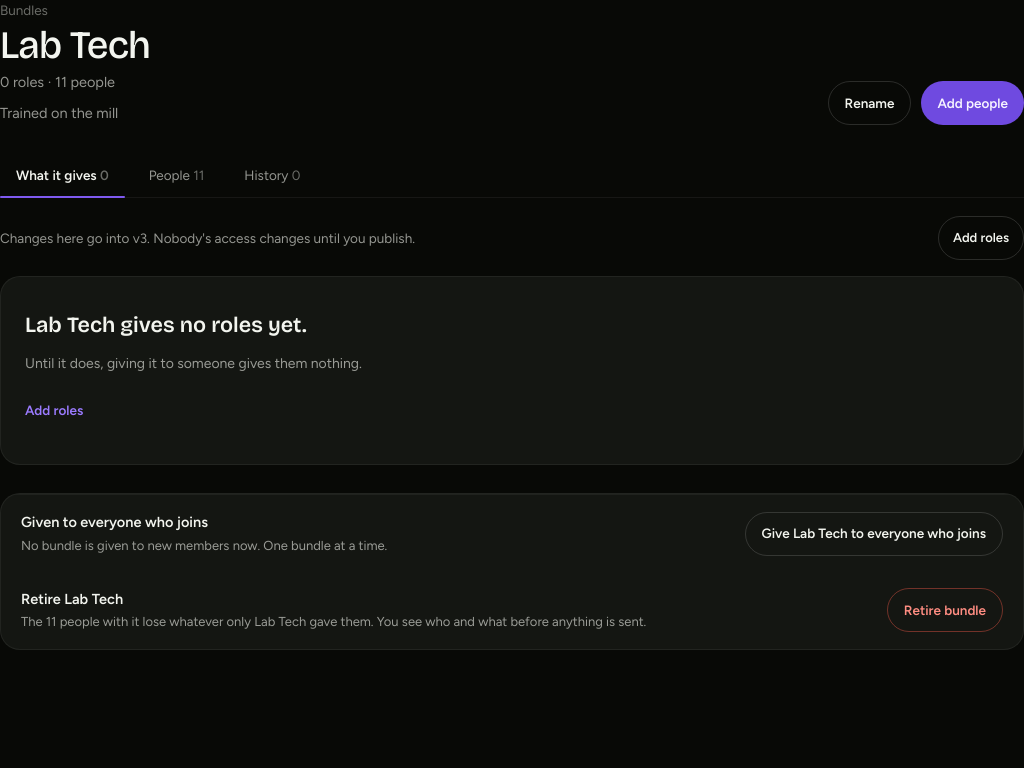
Test: retiring a bundle › names the holders before the confirming click
Step 1. Click the button "Retire bundle" → (945, 610), box [887,588,1003,632]
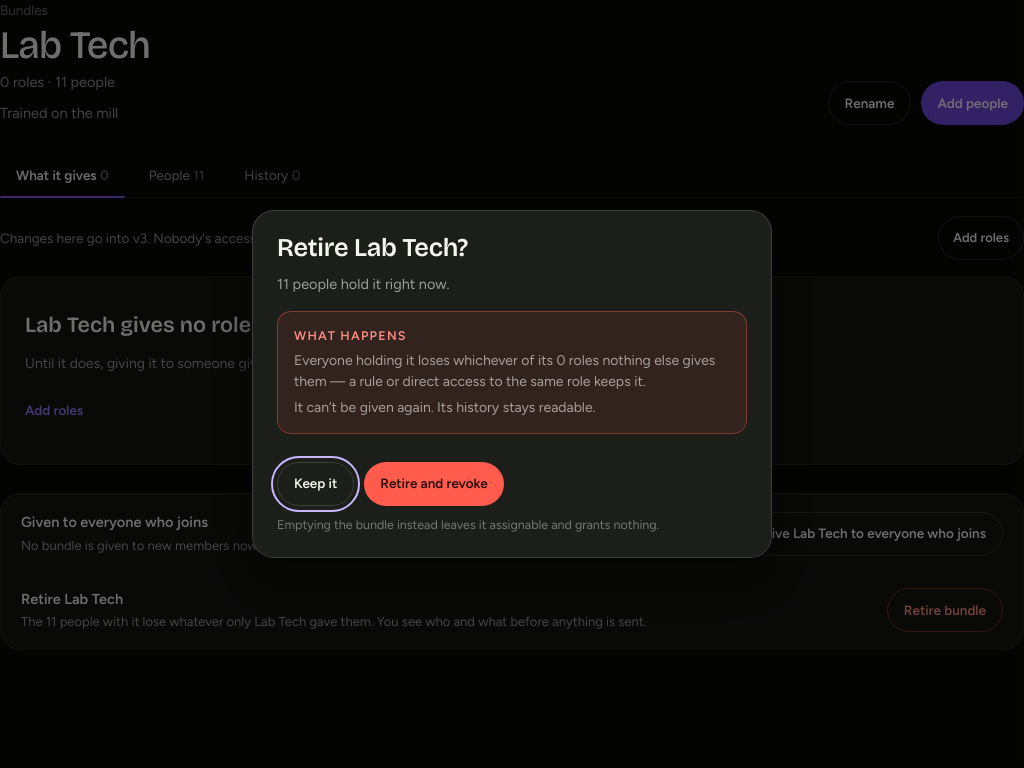
Now the text "11 people hold it right now" is shown, box [277,275,450,293]
